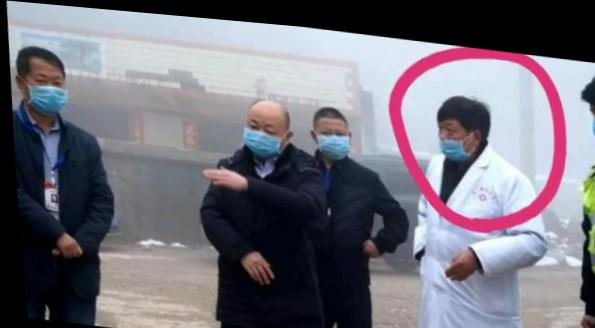OK: (19, 60, 66, 116), (240, 106, 286, 155), (312, 112, 349, 155), (584, 92, 595, 134)
WRONG: (434, 113, 472, 156)
